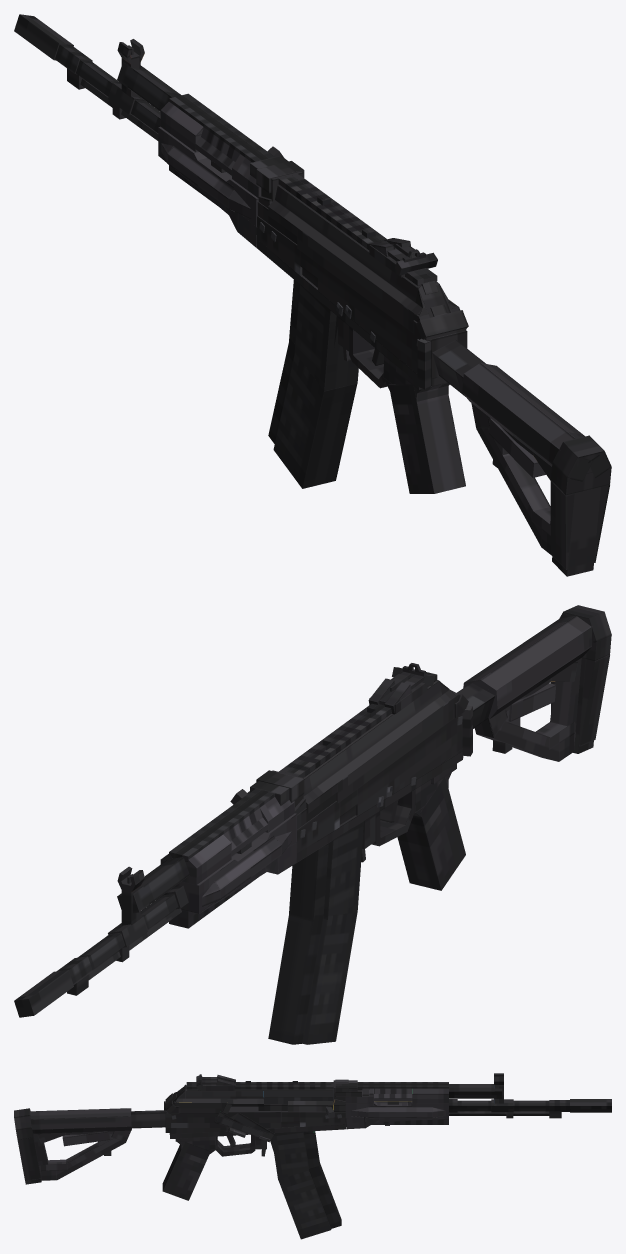
3 views of the same model, one above another, from view 1: azimuth 30°, elevation 25°; view 2: azimuth 150°, elevation 25°; view 3: azimuth 270°, elevation 25° (orthographic). The views are drawn at different scales.
Visible parts, largest first — view 1: gun, stock, magazine, sight; view 2: gun, stock, magazine, sight; view 3: gun, stock, magazine, action, switch, sight.
Part boxes in pixels (<box>): gun: <box>14,14,468,493</box>; stock: <box>432,340,611,576</box>; magazine: <box>268,280,358,488</box>; sight: <box>368,238,437,277</box>; gun: <box>14,672,472,1017</box>; stock: <box>457,605,611,761</box>; magazine: <box>268,821,363,1044</box>; sight: <box>368,663,434,714</box>; gun: <box>162,1073,611,1200</box>; stock: <box>14,1108,165,1184</box>; magazine: <box>270,1131,341,1239</box>; action: <box>258,1097,334,1117</box>; switch: <box>214,1112,274,1142</box>; sight: <box>196,1074,235,1090</box>.
Size of the model in its own units: 0.481 by 2.06 by 6.96.
